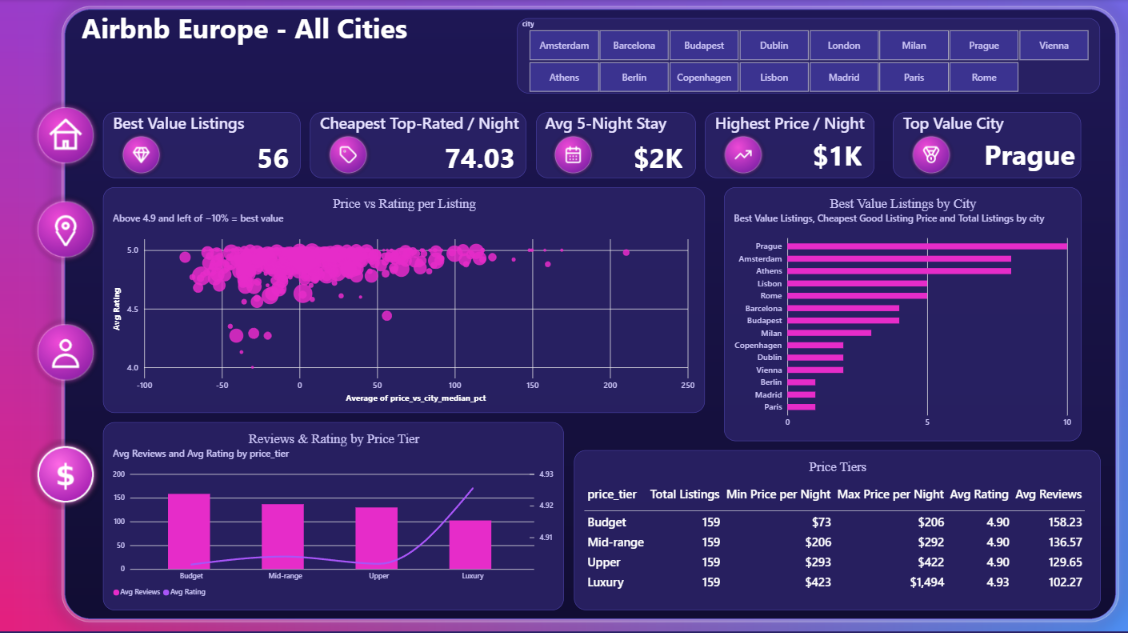

This screenshot's page, from the dashboard's own definition file:
{"tool":"powerbi","page":{"name":"Value","canvas":[1920,1080],"ordinal":3},"visuals":[{"type":"shape","box":[1200,192,288,112],"z":0},{"type":"tableEx","title":"Price Tiers","fields":{"Values":["dim_price_tier.price_tier","dim_city.Total Listings","dim_city.Min Price per Night","dim_city.Max Price per Night","dim_city.Avg Rating","dim_city.Avg Reviews"]},"box":[976,768,896,272],"z":1000},{"type":"lineClusteredColumnComboChart","title":"Reviews & Rating by Price Tier","fields":{"Category":["dim_price_tier.price_tier"],"Y":["dim_city.Avg Reviews"],"Y2":["dim_city.Avg Rating"]},"box":[176,720,784,320],"z":2000},{"type":"scatterChart","title":"Price vs Rating per Listing","fields":{"Category":["dim_listing.listing_id"],"Size":["dim_city.Avg Reviews"],"X":["Avg(fact_listing.price_vs_city_median_pct)"],"Y":["dim_city.Avg Rating"]},"box":[176,320,1024,384],"z":3000},{"type":"clusteredBarChart","title":"Best Value Listings by City","fields":{"Category":["dim_city.city"],"Y":["dim_city.Best Value Listings"]},"box":[1232,320,608,432],"z":4000},{"type":"actionButton","box":[48,128,128,208],"z":5000},{"type":"actionButton","box":[48,288,128,208],"z":6000},{"type":"actionButton","box":[48,496,128,208],"z":7000},{"type":"actionButton","box":[48,704,128,208],"z":8000},{"type":"cardVisual","fields":{"Data":["dim_city.Dashboard Title"]},"box":[80,0,672,96],"z":9000},{"type":"slicer","fields":{"Values":["dim_city.city"]},"box":[880,32,992,128],"z":10000},{"type":"shape","box":[912,192,272,112],"z":11000},{"type":"shape","box":[1520,192,320,112],"z":12000},{"type":"shape","box":[528,192,368,112],"z":13000},{"type":"shape","box":[176,192,336,112],"z":14000},{"type":"cardVisual","fields":{"Data":["dim_city.Best Value Listings"]},"box":[224,208,480,120],"z":15000},{"type":"cardVisual","fields":{"Data":["dim_city.Top Value City"]},"box":[1584,208,336,112],"z":16000},{"type":"textbox","box":[192,192,240,48],"z":17000},{"type":"cardVisual","fields":{"Data":["dim_city.Cheapest Good Listing Price"]},"box":[576,208,480,120],"z":18000},{"type":"textbox","box":[1536,192,240,48],"z":19000},{"type":"textbox","box":[1216,192,288,48],"z":20000},{"type":"textbox","box":[928,192,240,48],"z":21000},{"type":"textbox","box":[544,192,368,48],"z":22000},{"type":"cardVisual","fields":{"Data":["dim_city.Avg Price 5 Nights"]},"box":[880,208,480,120],"z":23000},{"type":"cardVisual","fields":{"Data":["dim_city.Max Price per Night"]},"box":[1296,224,256,80],"z":24000},{"type":"image","box":[1536,224,96,80],"z":24001},{"type":"image","box":[1216,224,96,80],"z":24002},{"type":"image","box":[928,224,96,80],"z":24003},{"type":"image","box":[544,224,96,80],"z":24004},{"type":"image","box":[192,224,96,80],"z":24005}]}

Visuals, with their boxes in screenshot pixels (x1, y1, x2, y2), scaled from the page's 1920x1080 canvas onto the 1128x633 screenshot:
shape: 705,113,874,178
"Price Tiers" tableEx: 573,450,1100,610
"Reviews & Rating by Price Tier" lineClusteredColumnComboChart: 103,422,564,610
"Price vs Rating per Listing" scatterChart: 103,188,705,413
"Best Value Listings by City" clusteredBarChart: 724,188,1081,441
actionButton: 28,75,103,197
actionButton: 28,169,103,291
actionButton: 28,291,103,413
actionButton: 28,413,103,535
cardVisual - dim_city.Dashboard Title: 47,0,442,56
slicer - dim_city.city: 517,19,1100,94
shape: 536,113,696,178
shape: 893,113,1081,178
shape: 310,113,526,178
shape: 103,113,301,178
cardVisual - dim_city.Best Value Listings: 132,122,414,192
cardVisual - dim_city.Top Value City: 931,122,1127,188
textbox: 113,113,254,141
cardVisual - dim_city.Cheapest Good Listing Price: 338,122,620,192
textbox: 902,113,1043,141
textbox: 714,113,884,141
textbox: 545,113,686,141
textbox: 320,113,536,141
cardVisual - dim_city.Avg Price 5 Nights: 517,122,799,192
cardVisual - dim_city.Max Price per Night: 761,131,912,178
image: 902,131,959,178
image: 714,131,771,178
image: 545,131,602,178
image: 320,131,376,178
image: 113,131,169,178
